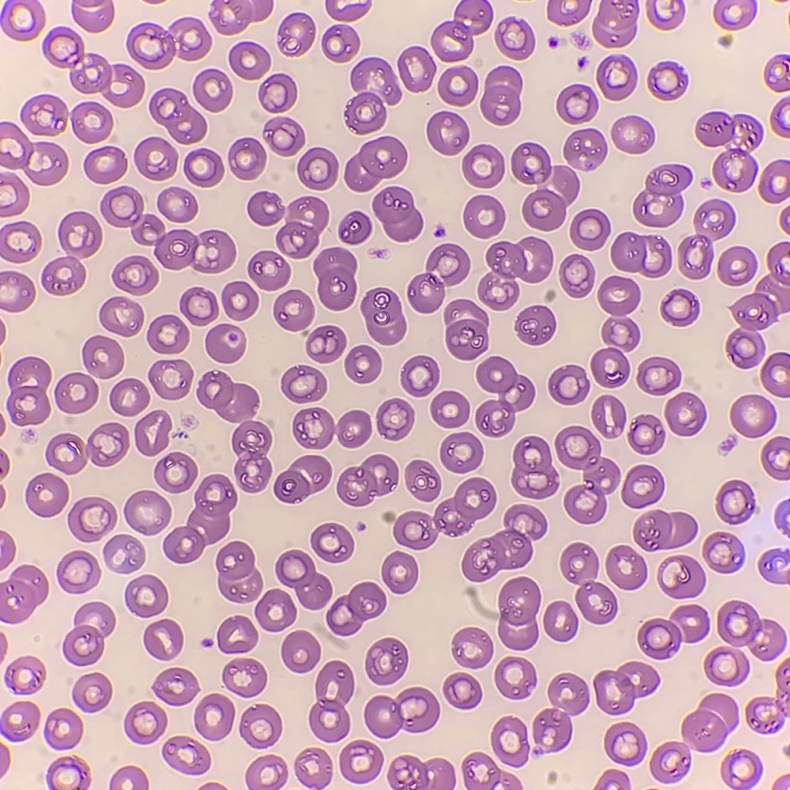RBC: (101, 186, 235, 272), (43, 27, 144, 107), (726, 242, 789, 367), (394, 478, 495, 549), (163, 475, 236, 563), (462, 505, 546, 581), (556, 426, 619, 523), (511, 143, 579, 230), (478, 237, 552, 310), (696, 112, 761, 191), (476, 357, 534, 436), (561, 543, 616, 623), (127, 17, 211, 69), (533, 673, 588, 752), (679, 200, 734, 278), (408, 244, 469, 312), (46, 423, 128, 473), (347, 57, 400, 133), (717, 601, 785, 660), (431, 0, 492, 61), (638, 605, 708, 658), (365, 687, 439, 737), (633, 164, 690, 226), (309, 661, 353, 741), (594, 662, 658, 714), (345, 137, 406, 191), (276, 550, 331, 609), (276, 196, 328, 258), (63, 602, 114, 665), (682, 694, 737, 751), (197, 371, 258, 422), (746, 660, 789, 732), (150, 88, 206, 143), (327, 582, 385, 635), (498, 577, 540, 650), (337, 455, 398, 505), (7, 357, 50, 425), (0, 142, 67, 185), (216, 542, 261, 602), (232, 421, 270, 492), (512, 437, 556, 498), (0, 565, 47, 622), (611, 232, 670, 277), (373, 187, 422, 241), (274, 455, 330, 502), (444, 299, 487, 359), (314, 248, 356, 309), (361, 288, 405, 344), (634, 511, 696, 550), (481, 66, 521, 124), (388, 756, 455, 789), (462, 753, 521, 789), (593, 0, 638, 47), (210, 0, 272, 34), (68, 497, 115, 541), (125, 491, 170, 534), (658, 556, 704, 598), (365, 638, 407, 684), (134, 137, 177, 180), (59, 212, 101, 256), (21, 95, 67, 135), (194, 694, 234, 740), (491, 717, 528, 766), (731, 395, 774, 437), (26, 473, 68, 516), (604, 722, 646, 765), (240, 704, 281, 748), (162, 736, 209, 774), (462, 145, 504, 187), (57, 551, 99, 593), (125, 575, 167, 617), (340, 740, 382, 782), (427, 112, 468, 154), (564, 129, 606, 170), (622, 465, 663, 507), (124, 702, 166, 743), (606, 546, 646, 589), (597, 55, 636, 99), (2, 0, 44, 40), (464, 195, 504, 237), (83, 336, 123, 378), (55, 373, 97, 413), (665, 393, 705, 435), (440, 432, 482, 472), (154, 452, 196, 492), (495, 657, 535, 699), (100, 297, 143, 336), (149, 360, 192, 399), (113, 256, 157, 294), (704, 647, 748, 685), (71, 102, 112, 142), (598, 276, 639, 316), (293, 408, 334, 448), (255, 590, 295, 631), (311, 523, 353, 562), (398, 46, 435, 90), (282, 365, 326, 402), (153, 668, 197, 705), (570, 209, 610, 249), (0, 222, 40, 262), (650, 742, 690, 782), (495, 18, 534, 59), (298, 148, 337, 189), (248, 251, 289, 290), (193, 69, 231, 111), (611, 116, 654, 153), (637, 357, 680, 394), (717, 480, 754, 523), (223, 659, 266, 696), (135, 410, 170, 455), (557, 84, 597, 123), (274, 290, 313, 330), (549, 365, 589, 404), (263, 117, 304, 155), (147, 315, 188, 353), (282, 631, 320, 672), (84, 146, 126, 183), (42, 257, 84, 294), (438, 66, 477, 105), (453, 628, 492, 667), (515, 306, 555, 344), (104, 535, 144, 573), (44, 709, 82, 749), (229, 42, 270, 79), (278, 13, 314, 55), (206, 324, 245, 362), (144, 620, 182, 659), (0, 702, 39, 740), (721, 750, 760, 788), (401, 356, 438, 396), (703, 532, 740, 572), (217, 616, 257, 653), (229, 138, 265, 179), (73, 673, 111, 711), (184, 149, 223, 186), (591, 348, 628, 387), (377, 399, 413, 439), (5, 657, 45, 693), (322, 24, 359, 62), (648, 62, 686, 99), (259, 74, 296, 112), (718, 247, 755, 285), (180, 287, 217, 325), (306, 326, 345, 362), (405, 460, 440, 500), (382, 552, 417, 592), (560, 255, 593, 297), (592, 395, 625, 437), (110, 379, 148, 415), (431, 391, 469, 427), (295, 749, 331, 787), (157, 187, 196, 222), (0, 271, 34, 311), (246, 755, 286, 789), (661, 289, 698, 325), (222, 281, 257, 319), (628, 416, 663, 454), (72, 0, 113, 32), (444, 673, 481, 708), (544, 601, 577, 640), (49, 757, 89, 789), (759, 160, 789, 202), (345, 346, 380, 382), (336, 410, 370, 447), (761, 353, 789, 397), (0, 173, 28, 216), (714, 0, 754, 29), (248, 192, 283, 225), (602, 318, 639, 349), (762, 437, 789, 479), (547, 0, 590, 24), (339, 212, 371, 243), (109, 766, 147, 789), (765, 55, 789, 91), (325, 0, 366, 20), (596, 770, 630, 789), (0, 531, 14, 568), (655, 11, 683, 29), (0, 122, 21, 138), (0, 746, 9, 774), (774, 775, 789, 789), (0, 452, 8, 477), (647, 1, 655, 16), (779, 571, 789, 583), (0, 635, 6, 654), (203, 783, 221, 789), (762, 568, 772, 578), (771, 113, 779, 125), (721, 36, 731, 45), (50, 783, 63, 789), (385, 512, 393, 521), (763, 553, 771, 561), (782, 128, 789, 137), (0, 325, 4, 339), (784, 222, 789, 231), (784, 746, 789, 755), (0, 490, 4, 501), (784, 97, 789, 105), (0, 421, 4, 430), (785, 208, 789, 216), (785, 553, 789, 561)
